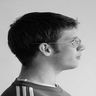ear: (35, 37, 58, 61)
